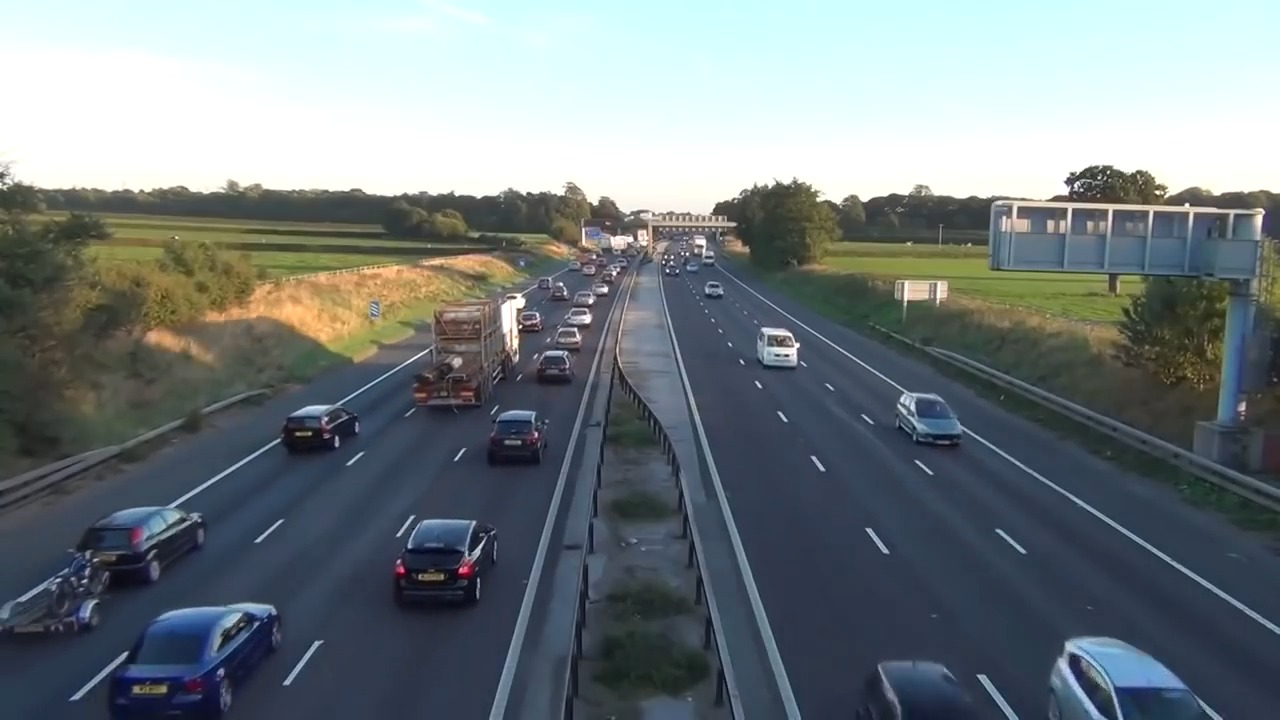truck: (427, 292, 524, 387)
